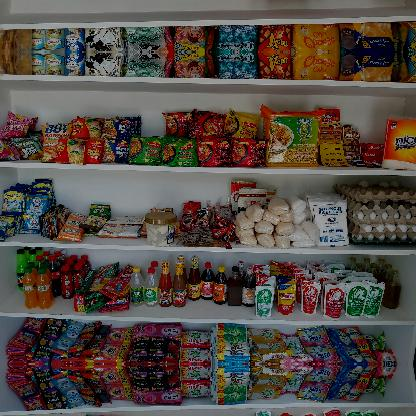Lady-s-Choice: (145, 212, 176, 247)
